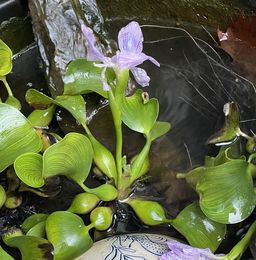water_hyacinth: (0, 24, 256, 259)
